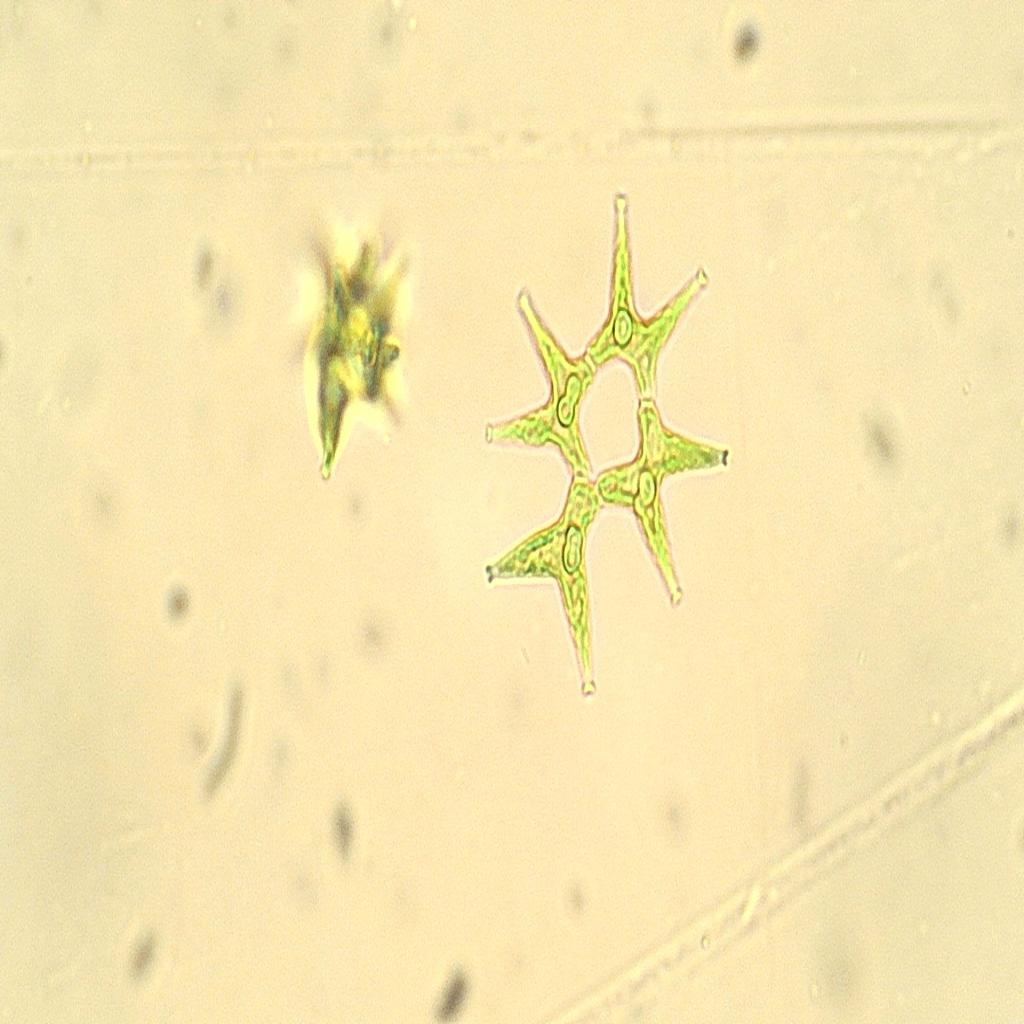Pediastrum_CT: (463, 172, 724, 722)
